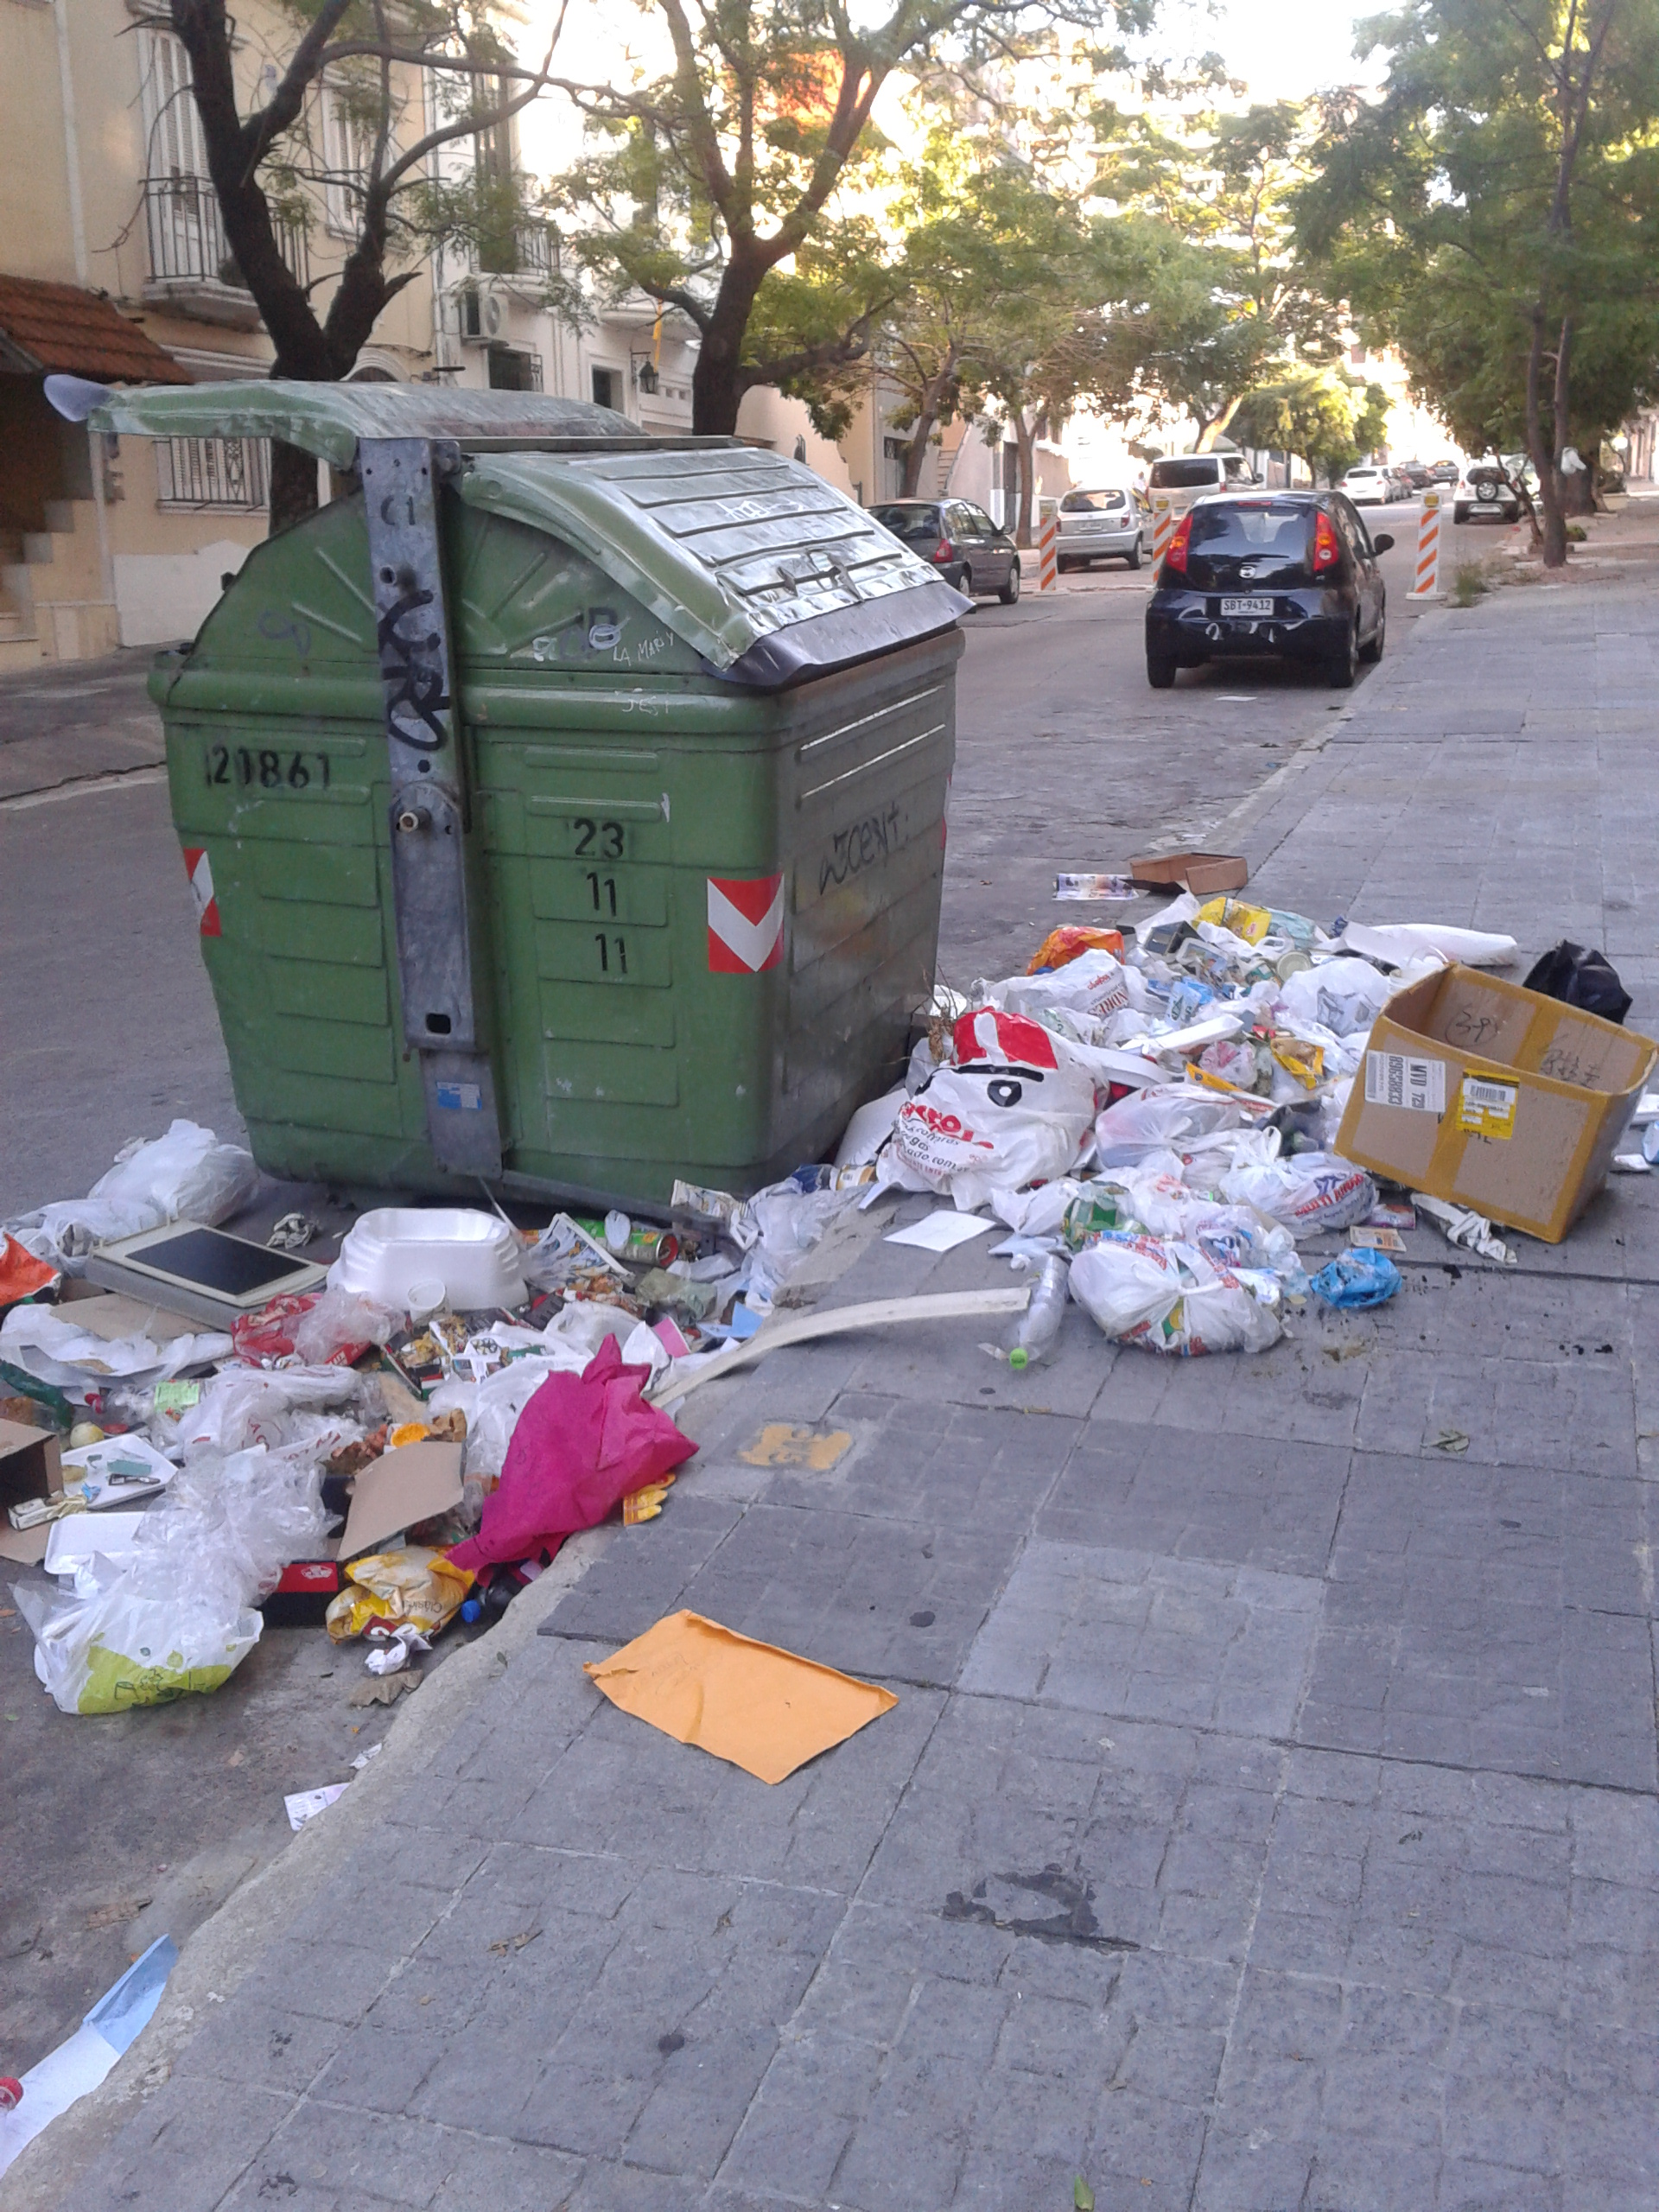container: (24, 355, 981, 1237)
